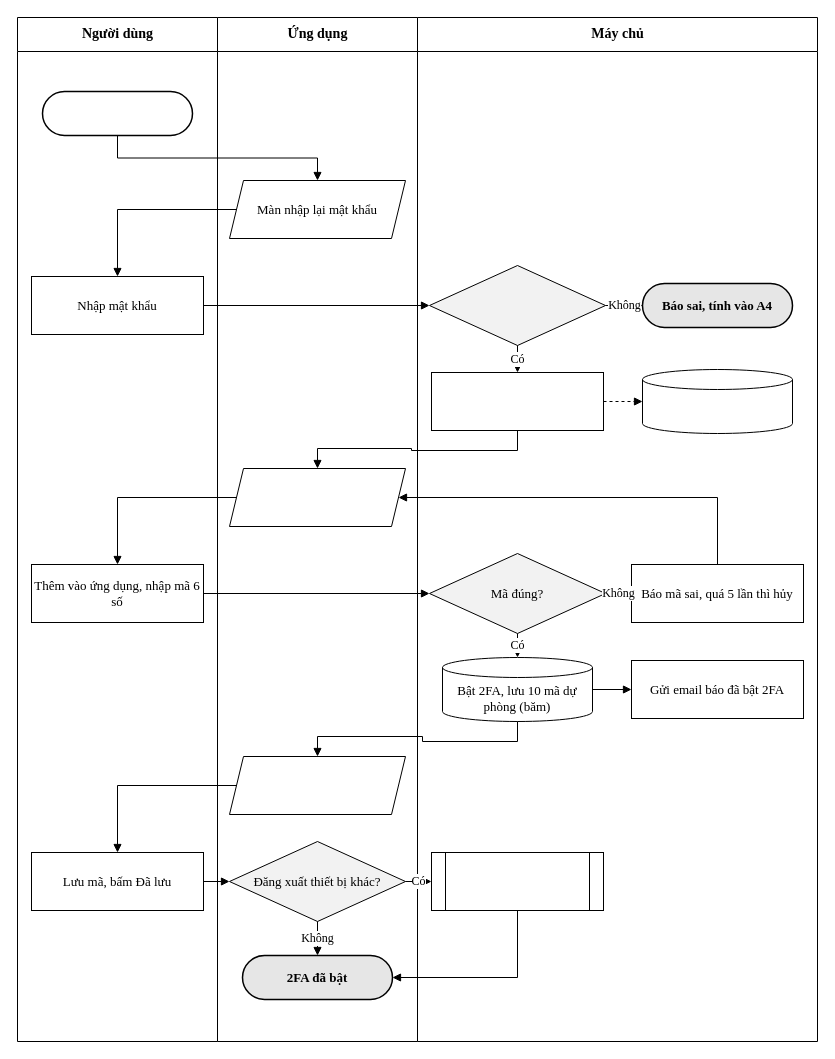
Some shapes in this 835 by 1059 pixel diagram are drawn without their labels. Each missing label, with the centre of its shape:
"Bấm Bật xác thực hai lớp" belongs at pixel 117 113.
"Hiện 10 mã dự phòng một lần" belongs at pixel 317 785.
"Hiện mã QR, khóa và nút mở" belongs at pixel 317 497.
"Lưu khóa chờ xác nhận" belongs at pixel 717 401.
"Mật khẩu đúng?" belongs at pixel 517 305.
"Thu hồi các phiên khác (A2)" belongs at pixel 517 881.
"Tạo khóa bí mật, mã hóa" belongs at pixel 517 401.
